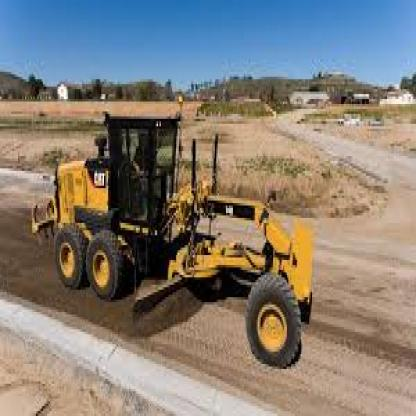bull_dozer/loader/grader: (14, 87, 323, 381)
